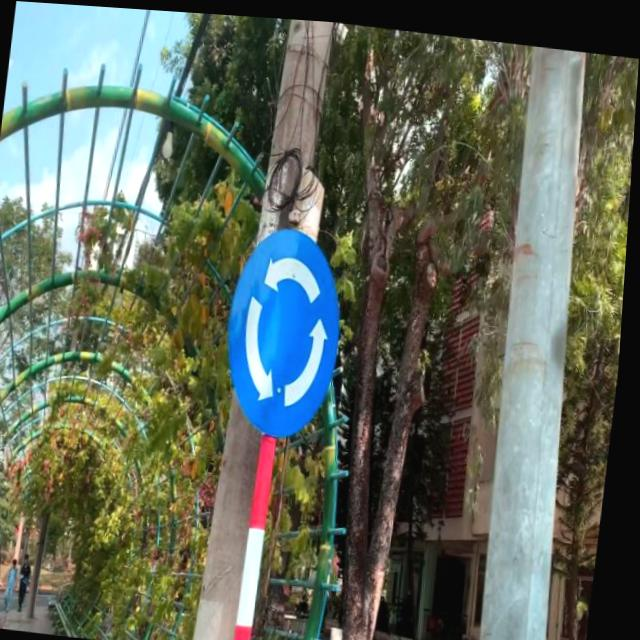Noi giao nhau chay theo vong xuyen: (221, 211, 361, 446)
